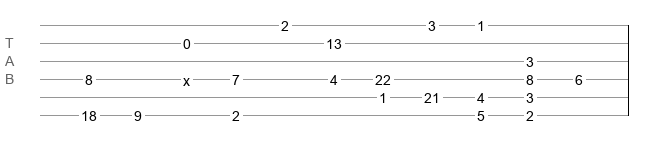0: (183, 36, 191, 46)
1: (379, 90, 387, 100), (477, 18, 485, 28)
13: (326, 36, 342, 46)
18: (81, 108, 97, 118)
2: (232, 108, 240, 118), (281, 18, 289, 28), (526, 108, 534, 118)
21: (424, 90, 440, 100)
22: (375, 72, 391, 82)
3: (428, 18, 436, 28), (526, 54, 534, 64), (526, 90, 534, 100)
4: (330, 72, 338, 82), (477, 90, 485, 100)
5: (477, 108, 485, 118)
6: (575, 72, 583, 82)
7: (232, 72, 240, 82)
8: (85, 72, 93, 82), (526, 72, 534, 82)
9: (134, 108, 142, 118)
x: (183, 73, 190, 81)
